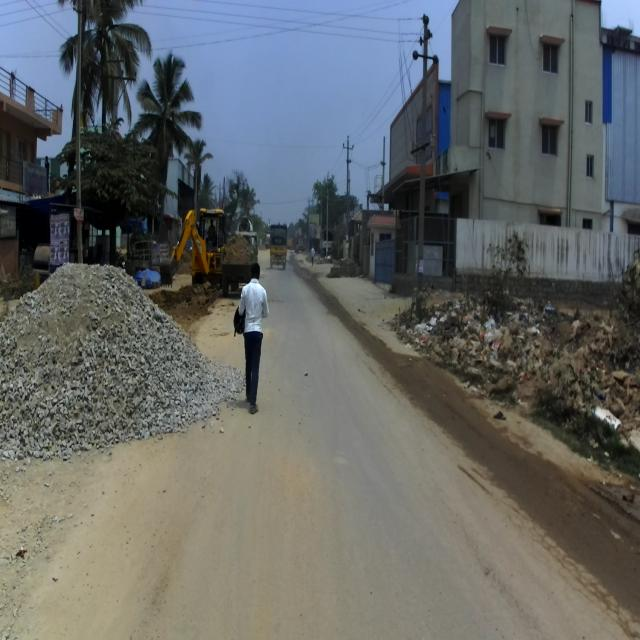electric pole ahead at: (409, 13, 447, 315)
person ahead at: (236, 257, 269, 418)
stones ahead at: (24, 388, 168, 441)
truck ahead at: (162, 196, 223, 298)
